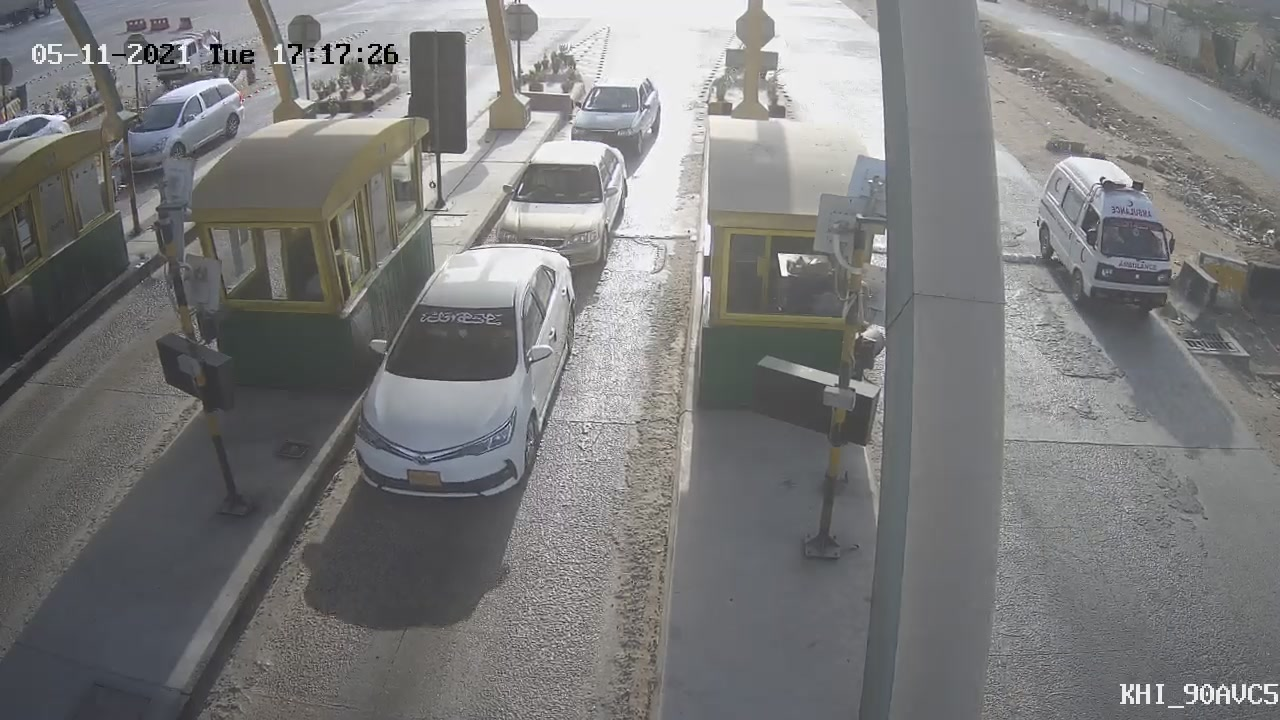F1: (343, 230, 589, 520), (472, 129, 642, 294), (557, 65, 672, 164)
